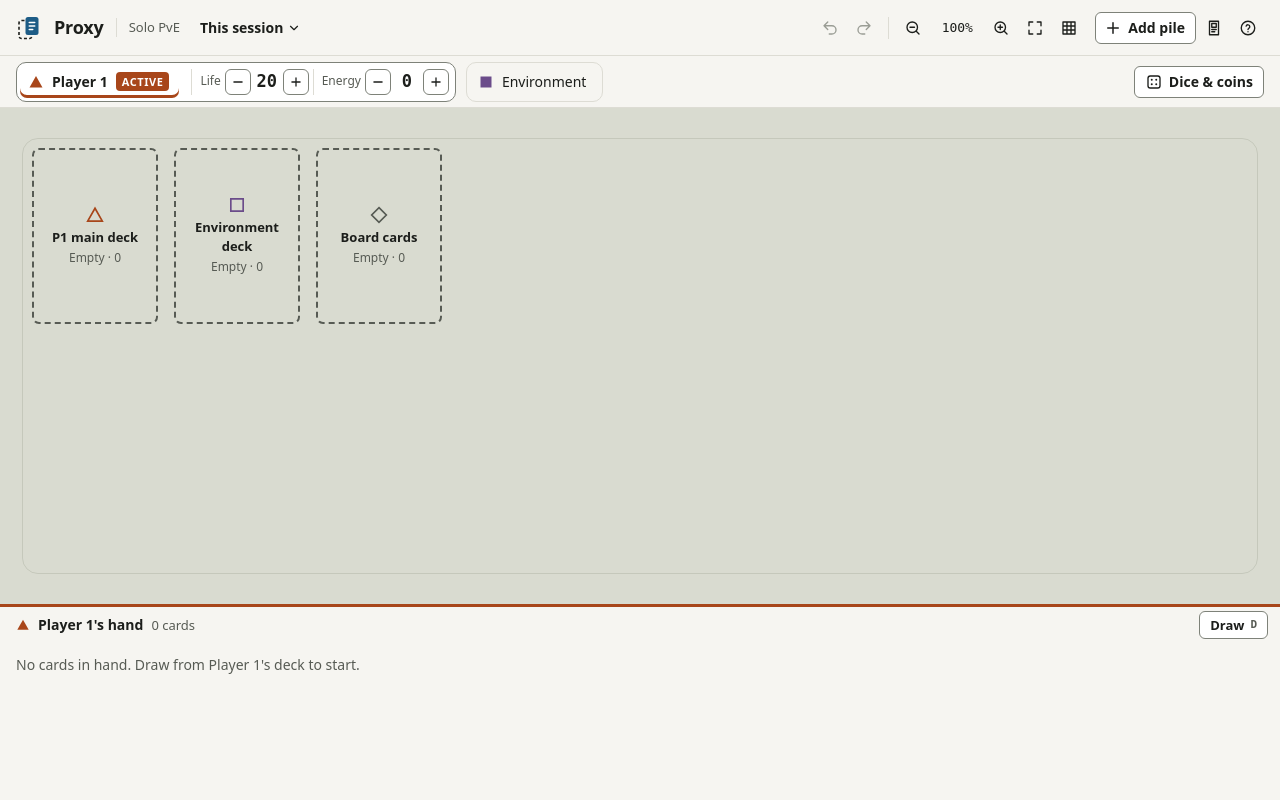
TT-14 Dice & coins › rolls with focus on d20 first, shows the result and announces it
The width and height of the screenshot is (1280, 800).
Click the button "Dice & coins".
click(1199, 82)  # box [1134, 66, 1264, 98]
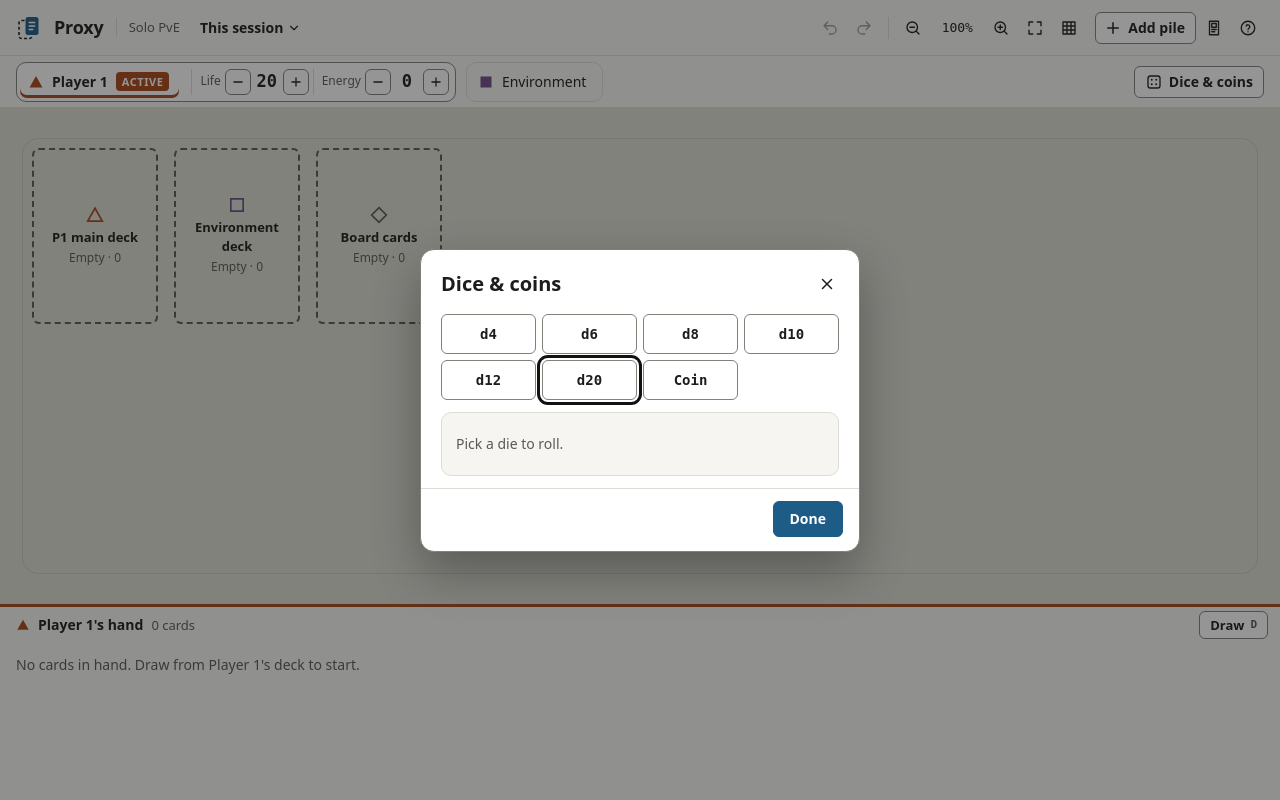
Expected: the text "Pick a die to roll." is shown, [456, 434, 563, 453]
Press Enter
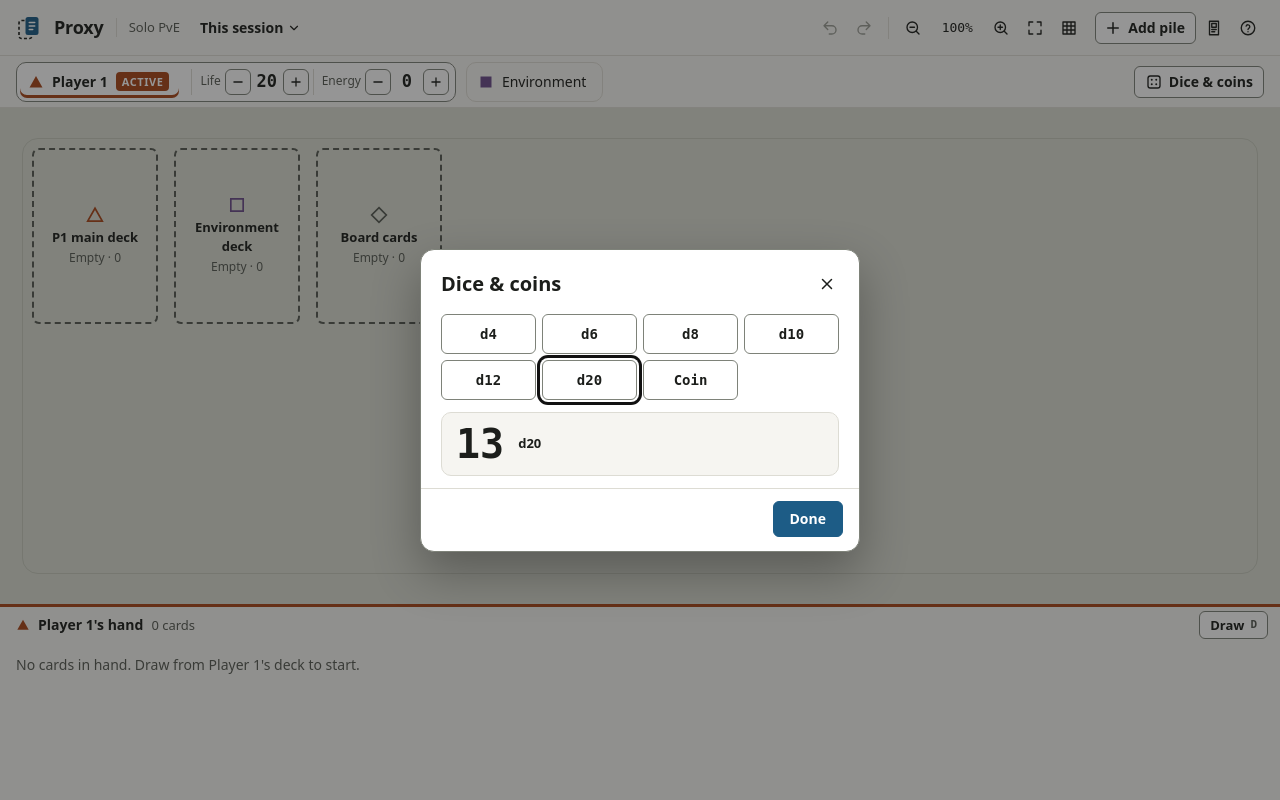
Expected: the button named "Roll d20" reads "d20", [542, 360, 637, 400]
Expected: the text "13" is shown, [456, 424, 504, 464]
